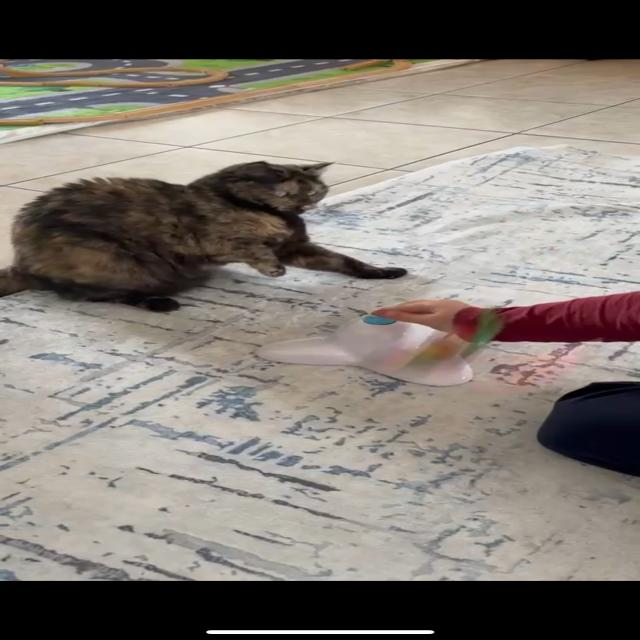authorized: (1, 160, 408, 312)
